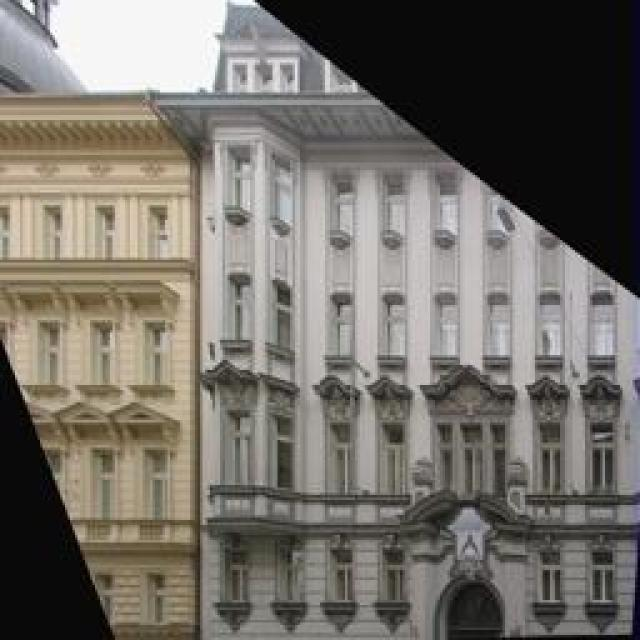building: (195, 2, 640, 640), (0, 30, 190, 640)
